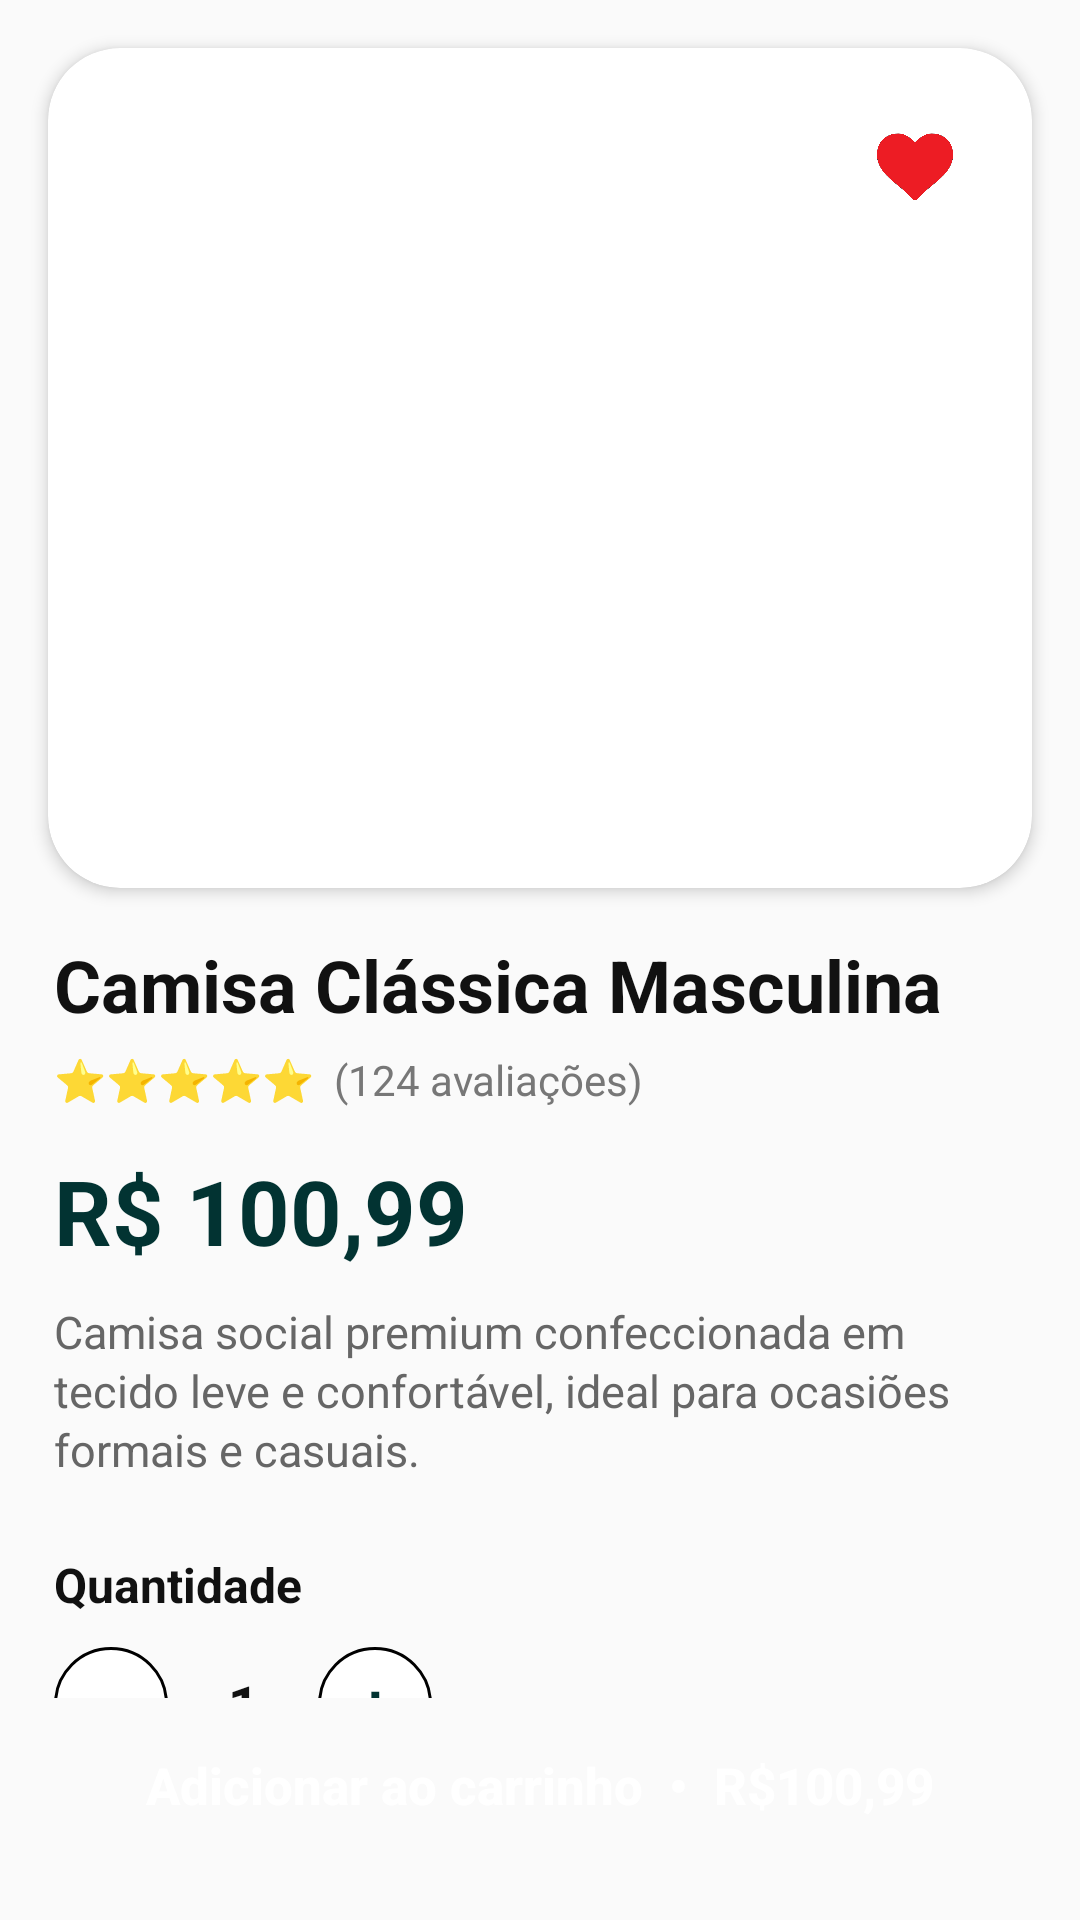

Icons on this 1080*1920 Android screen, each with the point to tap as (x,y):
favorite true: (915,166)
